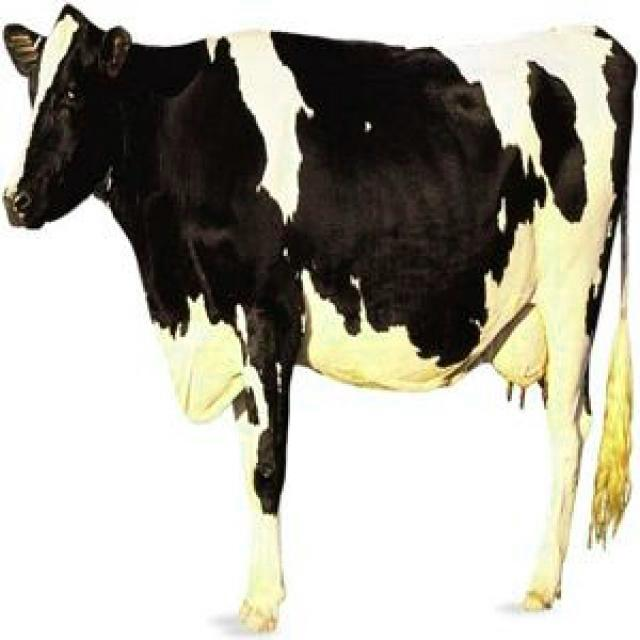cow: (5, 6, 635, 629)
